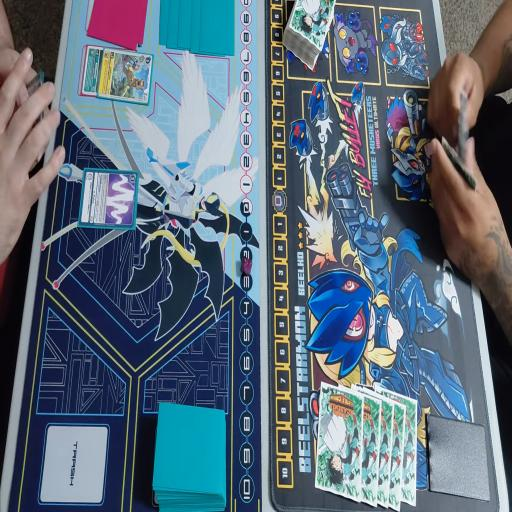card: (78, 170, 142, 230), (97, 50, 155, 102), (80, 47, 104, 100)
